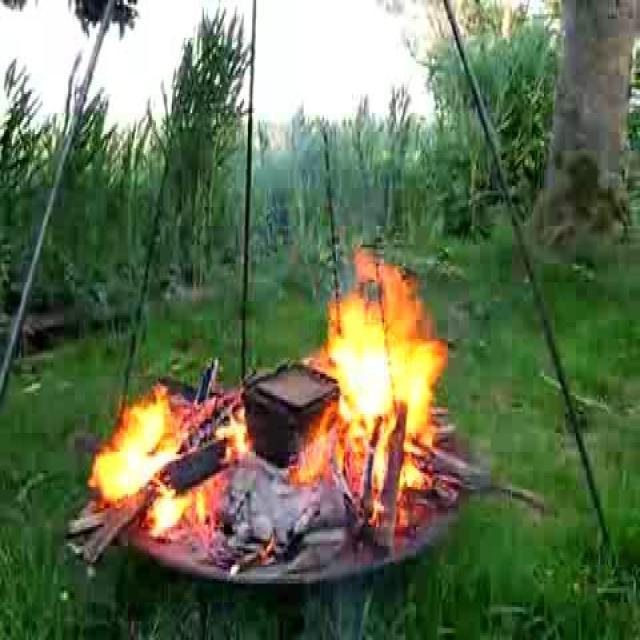Fire: (323, 262, 440, 480), (97, 387, 203, 532)
